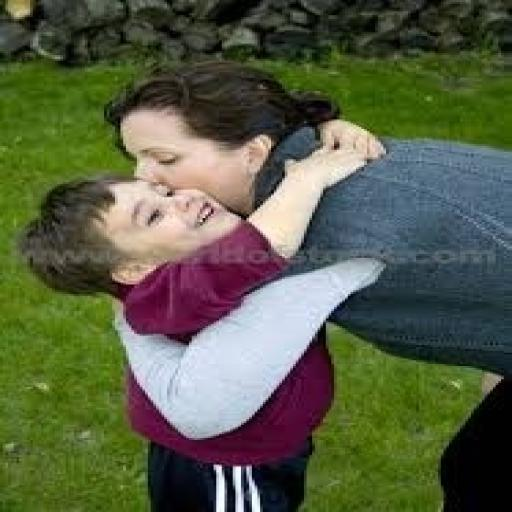hugging: (16, 57, 510, 510)
